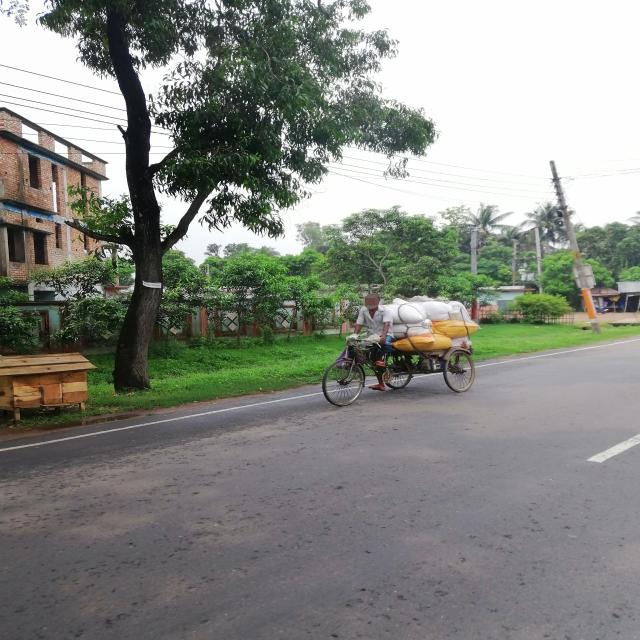Van: (313, 296, 487, 408)
